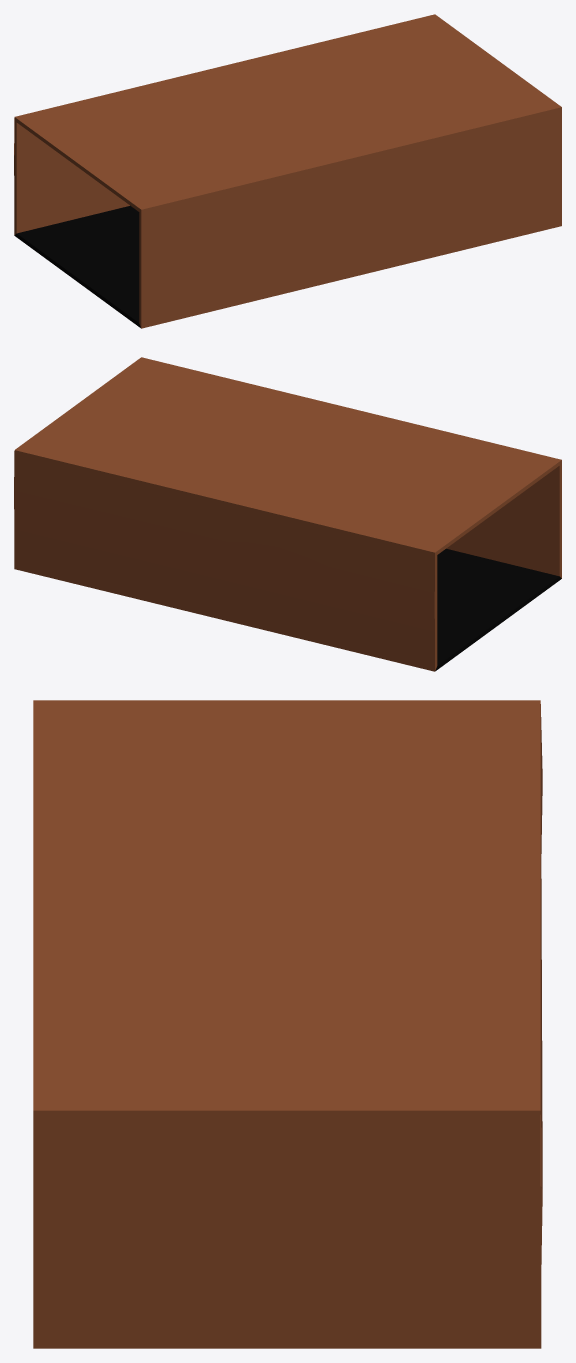
The model's file is barinterior.fbx.
3 renders of one model, top to bottom at view 1: azimuth 30°, elevation 25°; view 2: azimuth 150°, elevation 25°; view 3: azimuth 270°, elevation 25°, orthographic. The views are drawn at different scales.
Parts seen in each view (by area): view 1: Cube.186; view 2: Cube.186; view 3: Cube.186.
Part boxes in pixels (x1,y1,x2,y2): Cube.186: [14, 14, 561, 328]; Cube.186: [14, 357, 561, 671]; Cube.186: [33, 700, 542, 1348].
Bounding box in the file's own units: 893 × 241 × 468.
